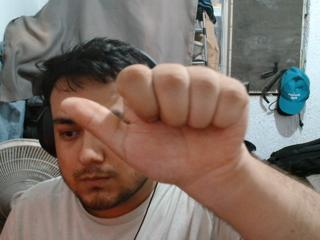Derecha: (51, 58, 256, 189)
